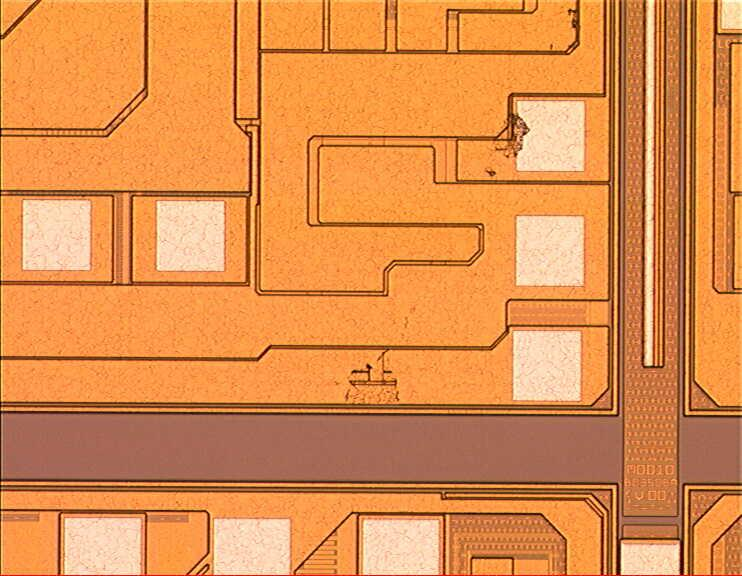SCRATCH: (323, 1, 586, 412)
